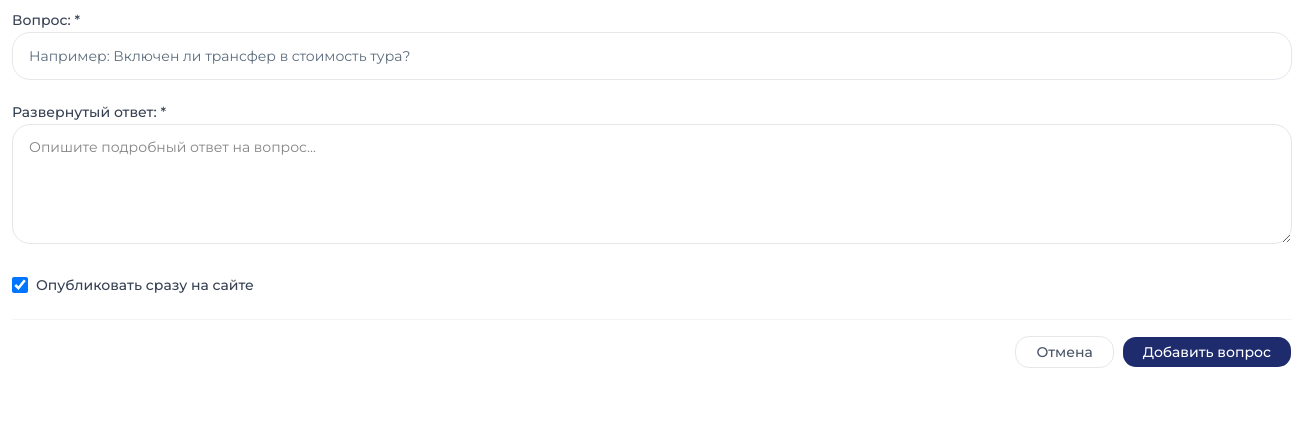
FaqForm › валидация › показывает ошибки при пустых обязательных полях
Step 1. Click the button "Добавить вопрос" → (1207,352), box x1=1122 y1=336 x2=1292 y2=368
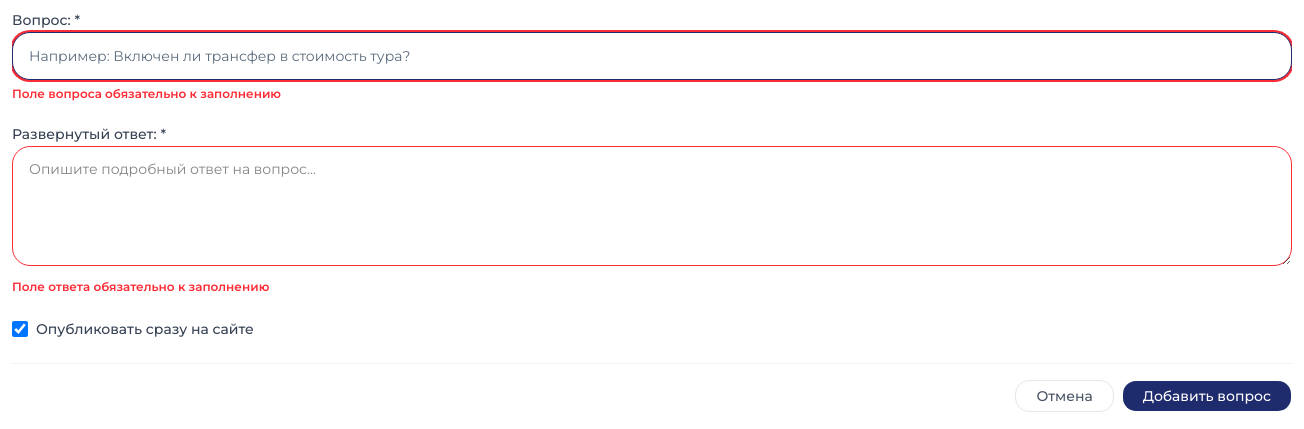
Result: the text "Поле вопроса обязательно к заполнению" is shown at x1=12 y1=86 x2=281 y2=101
Result: the text "Поле ответа обязательно к заполнению" is shown at x1=12 y1=279 x2=269 y2=294
